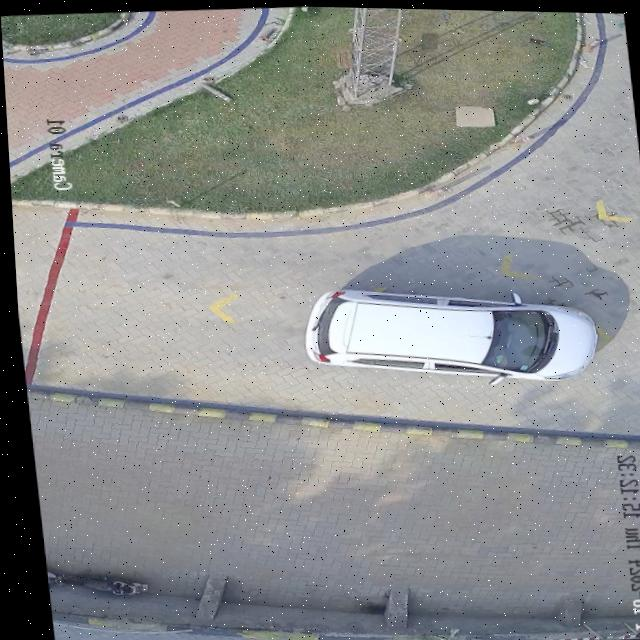car: (301, 288, 592, 380)
